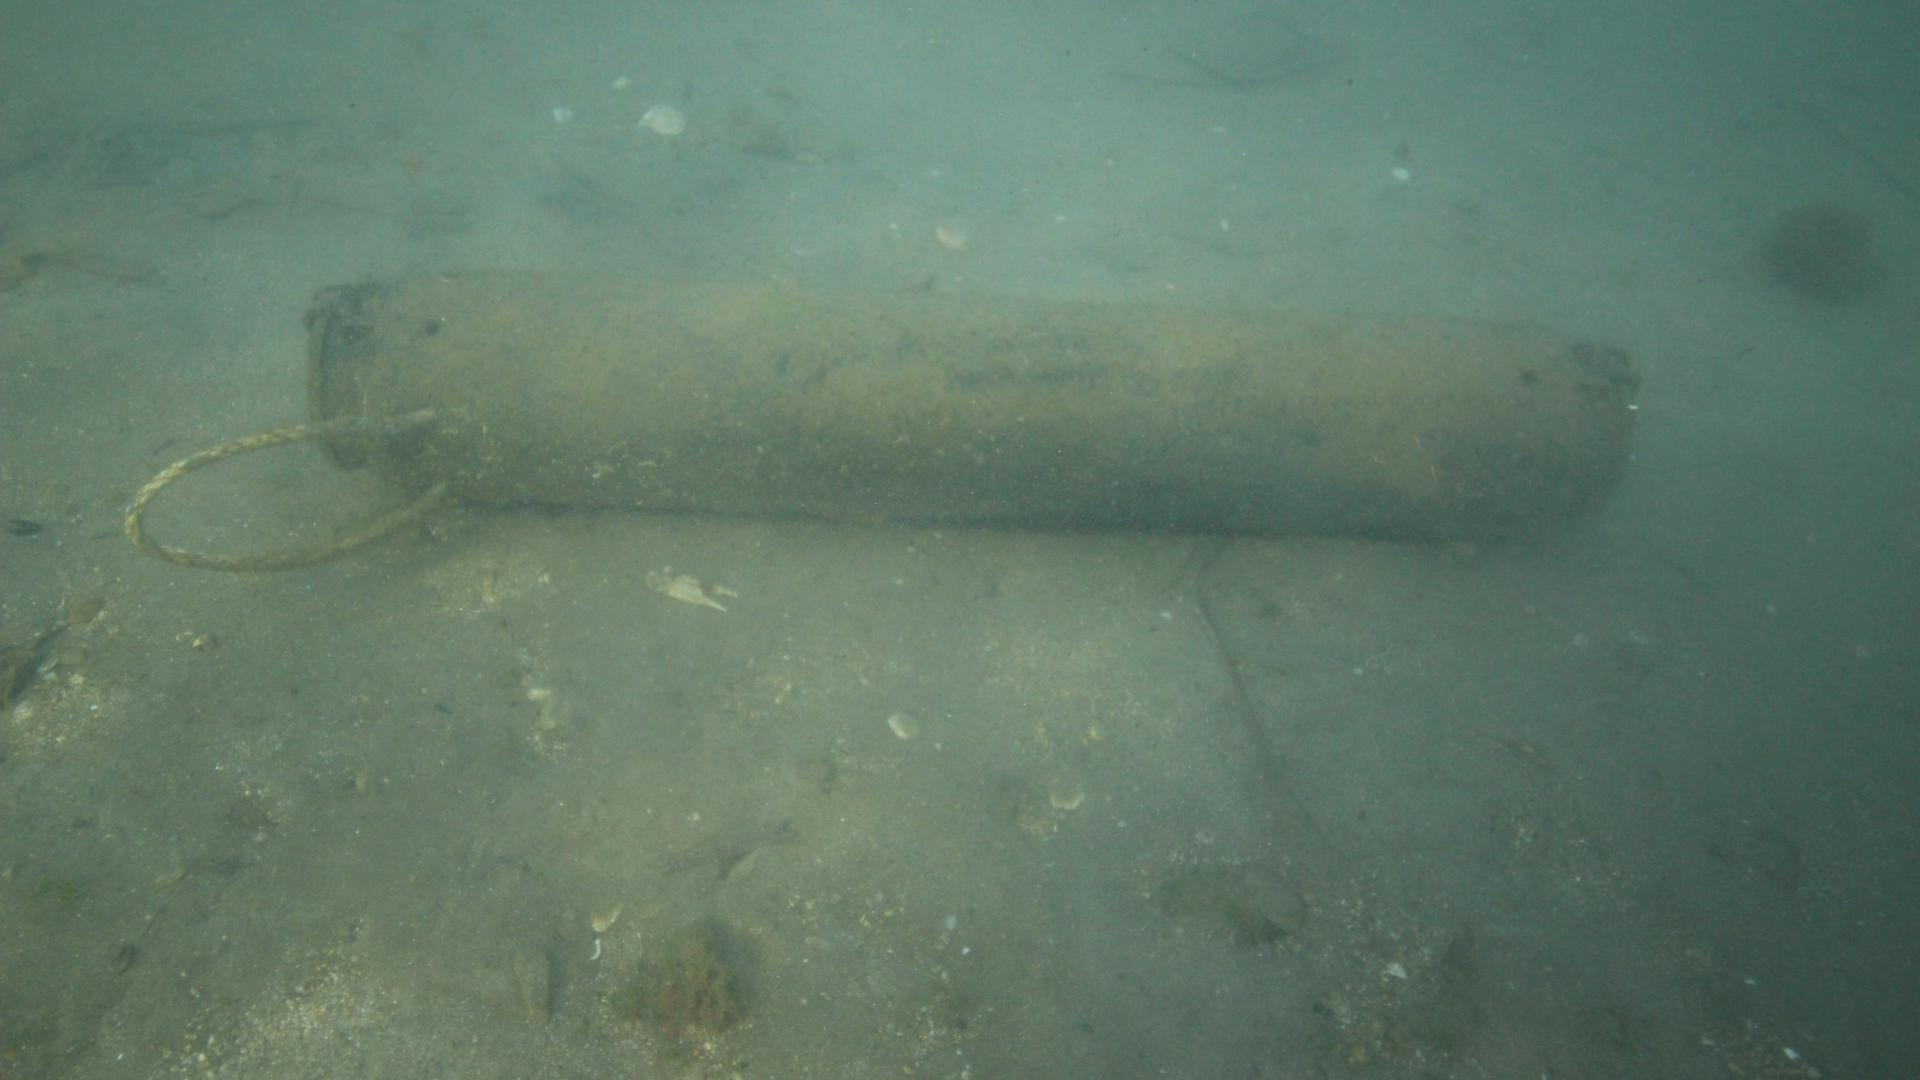eel fish trap: (299, 266, 1644, 545)
rope: (124, 407, 448, 574)
